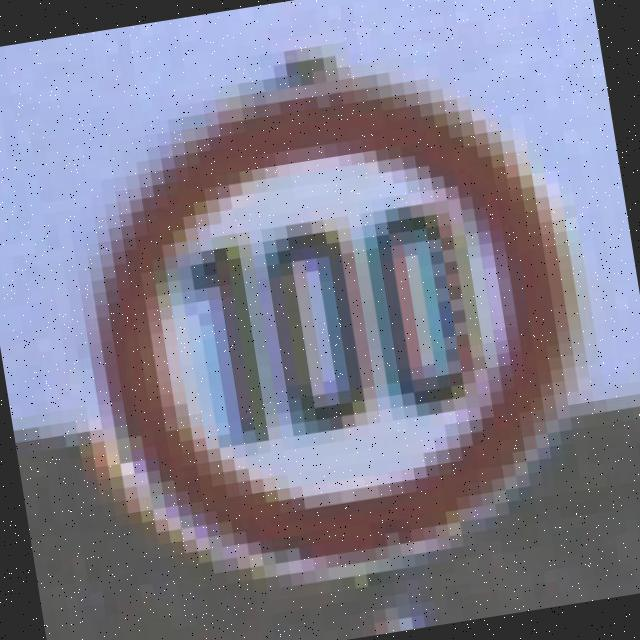Ograniczenie predkosci do 100: (71, 62, 597, 593)
